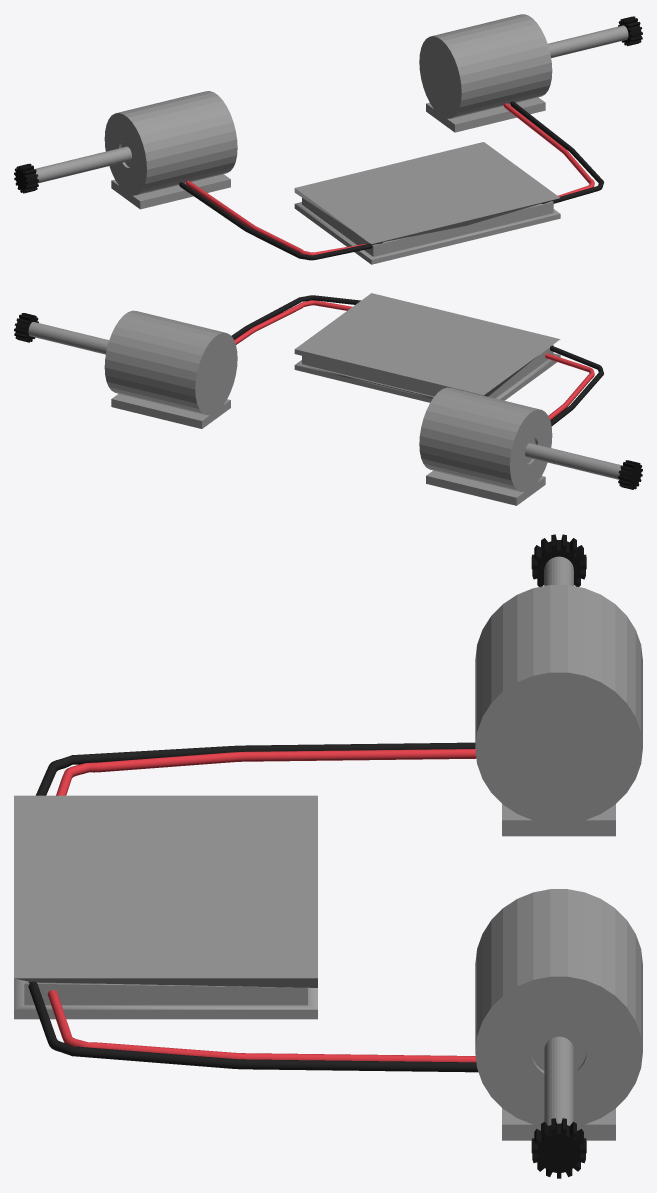
The model's file is MotorElectrico.fbx.
The picture shows the model from 3 angles, top to bottom: view 1: azimuth 30°, elevation 25°; view 2: azimuth 150°, elevation 25°; view 3: azimuth 270°, elevation 25°; orthographic projection. The views are drawn at different scales.
Parts seen in each view (by area): view 1: MotorElectrico; view 2: MotorElectrico; view 3: MotorElectrico.
Boxes of the visible parts, x1,y1,x2,y2 form: MotorElectrico: (14, 14, 642, 264); MotorElectrico: (14, 293, 642, 505); MotorElectrico: (14, 534, 642, 1178).
Bounding box in the file's own units: 126 × 16.17 × 56.23.
